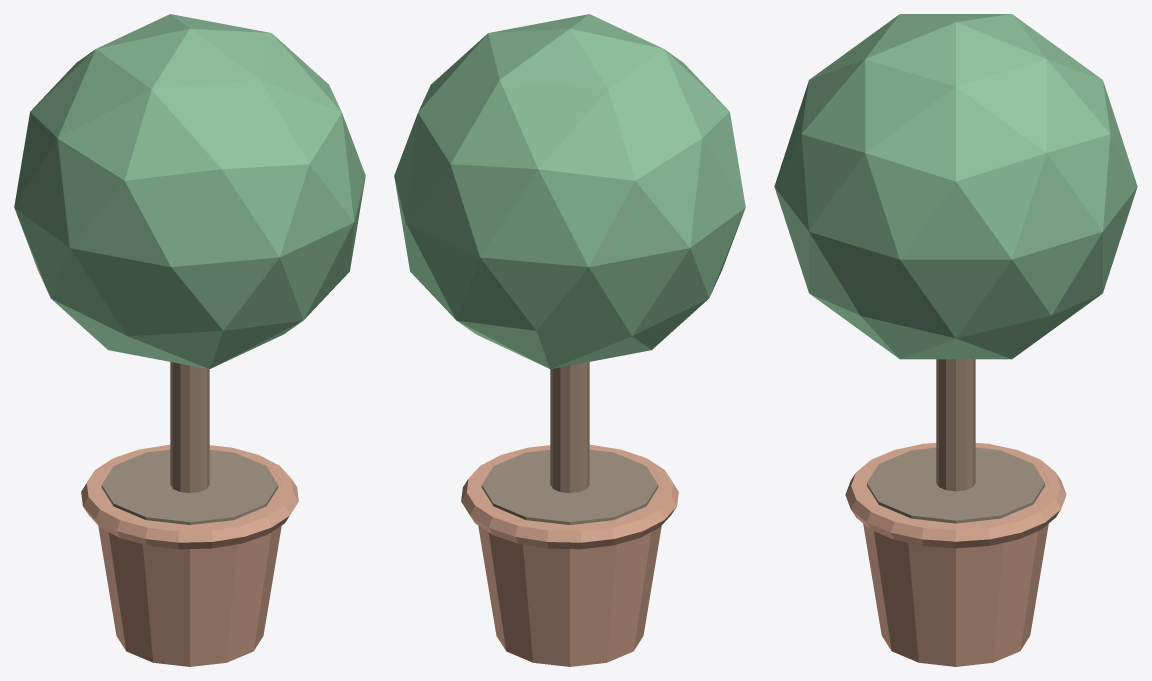
Rendered from topiary.glb.
The picture shows the model from 3 angles, left to right: view 1: azimuth 30°, elevation 25°; view 2: azimuth 150°, elevation 25°; view 3: azimuth 270°, elevation 25°; orthographic projection.
Parts seen in each view (by area): view 1: topiary_004, topiary_000, topiary_002, topiary_001, topiary_003; view 2: topiary_004, topiary_000, topiary_002, topiary_001, topiary_003; view 3: topiary_004, topiary_000, topiary_002, topiary_001, topiary_003.
Part boxes in pixels (x1,y1,x2,y2): topiary_004: (14, 14, 365, 369); topiary_000: (98, 457, 281, 666); topiary_002: (101, 450, 278, 524); topiary_001: (81, 444, 298, 549); topiary_003: (170, 362, 209, 492); topiary_004: (394, 14, 745, 369); topiary_000: (478, 457, 661, 666); topiary_002: (481, 450, 658, 524); topiary_001: (461, 444, 678, 549); topiary_003: (550, 362, 589, 492); topiary_004: (774, 14, 1137, 359); topiary_000: (863, 448, 1048, 666); topiary_002: (867, 447, 1044, 523); topiary_001: (845, 443, 1066, 548); topiary_003: (936, 359, 975, 491).
Bounding box in the file's own units: 1.05 × 2.05 × 1.1.
